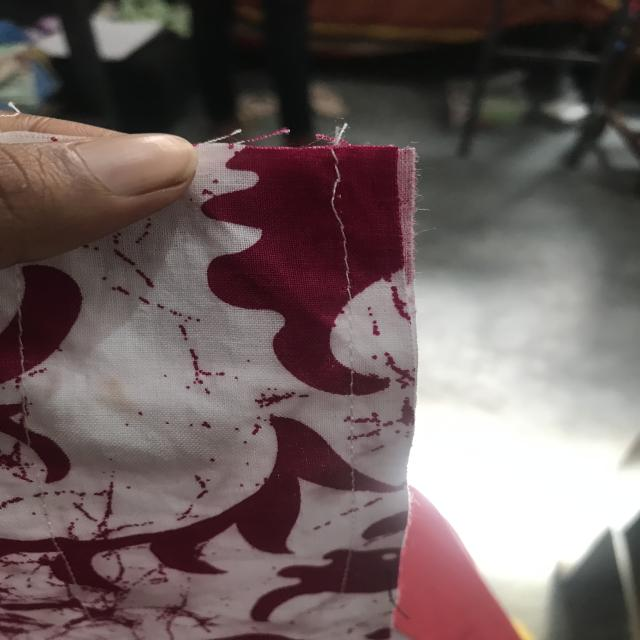skip: (312, 163, 360, 242)
